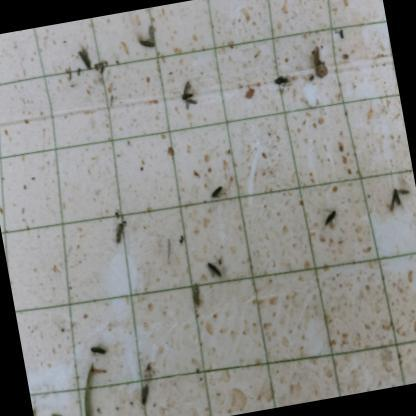prays_oleae: (174, 72, 200, 112), (130, 369, 156, 408), (386, 181, 414, 214), (135, 28, 162, 60), (74, 41, 96, 80), (84, 330, 110, 361), (269, 65, 293, 94), (208, 176, 229, 208)
